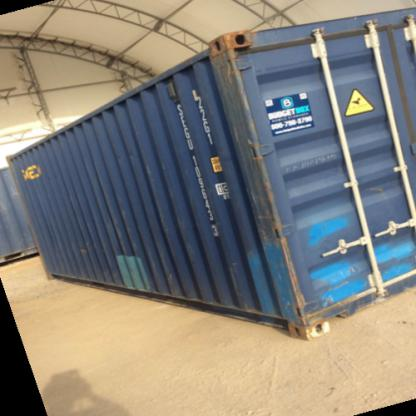Damage: (272, 219, 330, 322), (240, 113, 284, 226), (205, 29, 253, 121), (113, 250, 155, 293)
